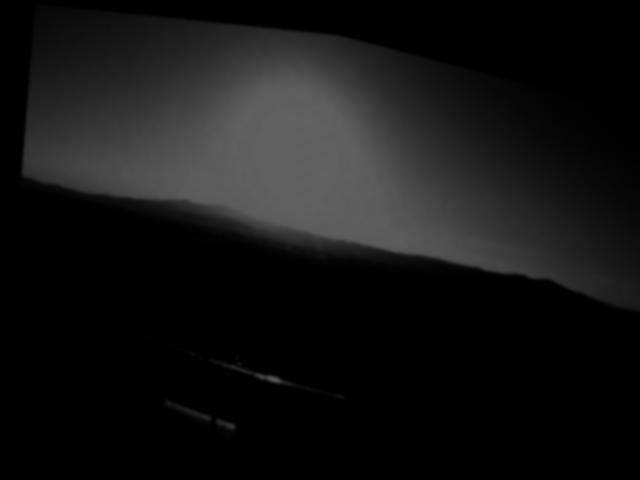hedef: (101, 311, 350, 466)
